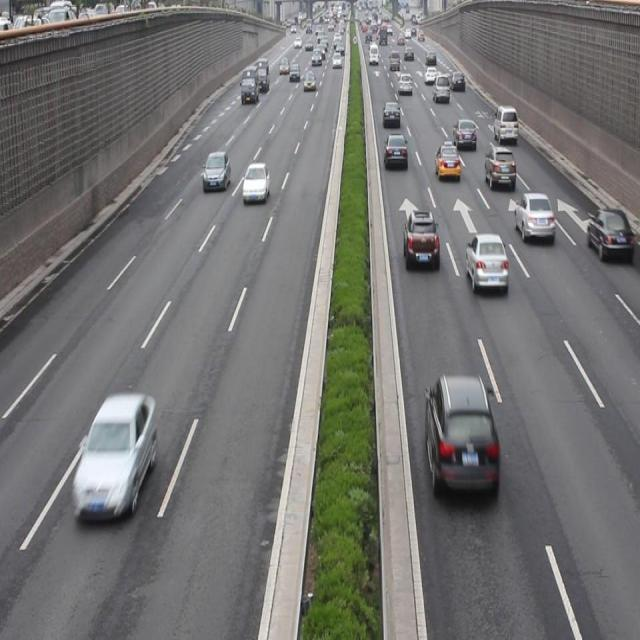car: (73, 393, 155, 521), (585, 206, 630, 261), (465, 233, 507, 291), (512, 191, 554, 243), (402, 209, 438, 267), (485, 144, 515, 190), (242, 162, 270, 202), (203, 151, 230, 189), (383, 132, 408, 169), (434, 143, 459, 179), (452, 117, 477, 151), (381, 100, 400, 128)
truck: (424, 372, 498, 496), (493, 104, 518, 142)
